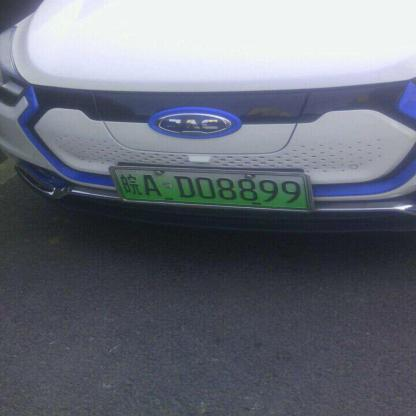lp: (110, 167, 310, 208)
